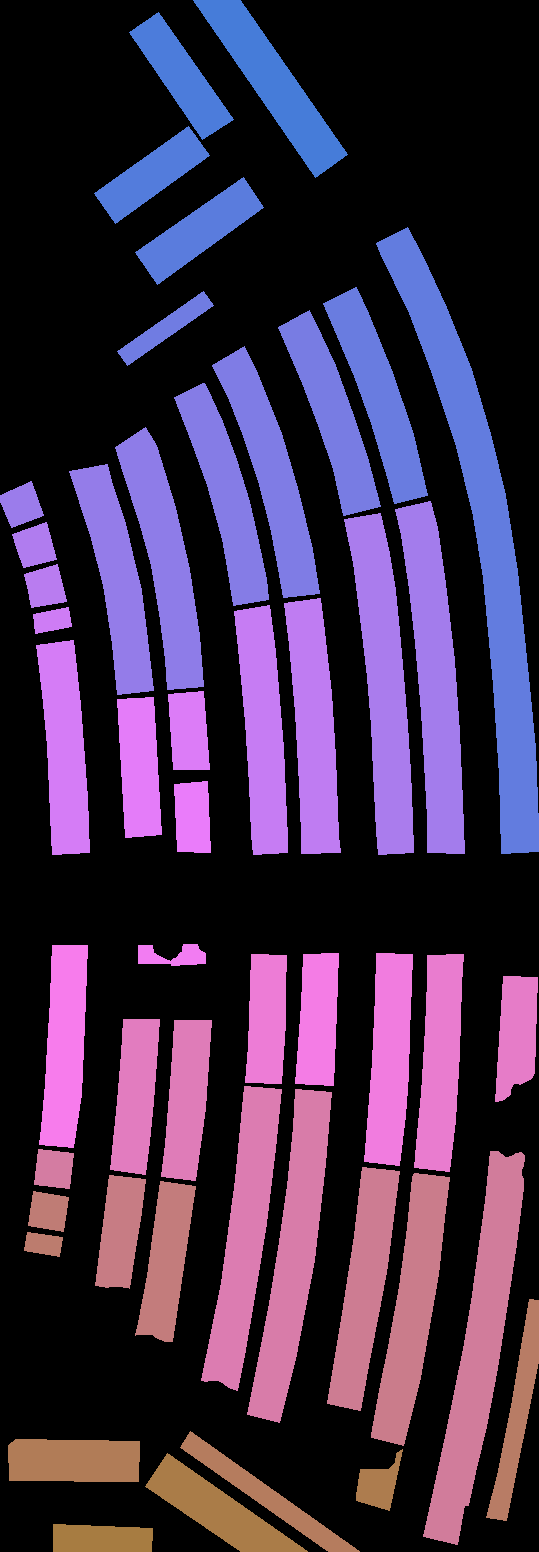parkingspot: (376, 227, 539, 853), (423, 1151, 524, 1544), (247, 1089, 331, 1422), (193, 0, 347, 177), (212, 346, 319, 597), (201, 1086, 281, 1390), (395, 501, 464, 853), (344, 513, 413, 854), (115, 427, 203, 689), (323, 287, 427, 503), (180, 1431, 360, 1552), (371, 1173, 449, 1445), (278, 310, 380, 515), (174, 383, 268, 605), (69, 464, 153, 694), (327, 1167, 399, 1410), (145, 1453, 309, 1552), (284, 598, 340, 853), (135, 177, 263, 284), (129, 12, 233, 139), (234, 605, 287, 854), (486, 1299, 539, 1520), (36, 640, 89, 854), (94, 126, 209, 223), (414, 954, 463, 1171), (364, 953, 412, 1165), (39, 945, 87, 1147), (135, 1181, 195, 1341), (161, 1020, 211, 1180), (110, 1019, 159, 1174), (117, 291, 213, 365), (117, 697, 161, 837), (295, 953, 338, 1085), (95, 1175, 145, 1288), (8, 1439, 139, 1481), (245, 954, 286, 1083), (495, 976, 537, 1101), (168, 691, 209, 769), (356, 1449, 402, 1510), (53, 1524, 152, 1552), (174, 781, 210, 852), (12, 522, 56, 567), (0, 481, 43, 527), (24, 564, 66, 607), (28, 1191, 68, 1231), (34, 1149, 73, 1188), (33, 607, 71, 633), (24, 1232, 62, 1256), (170, 944, 205, 965), (138, 945, 171, 963)
